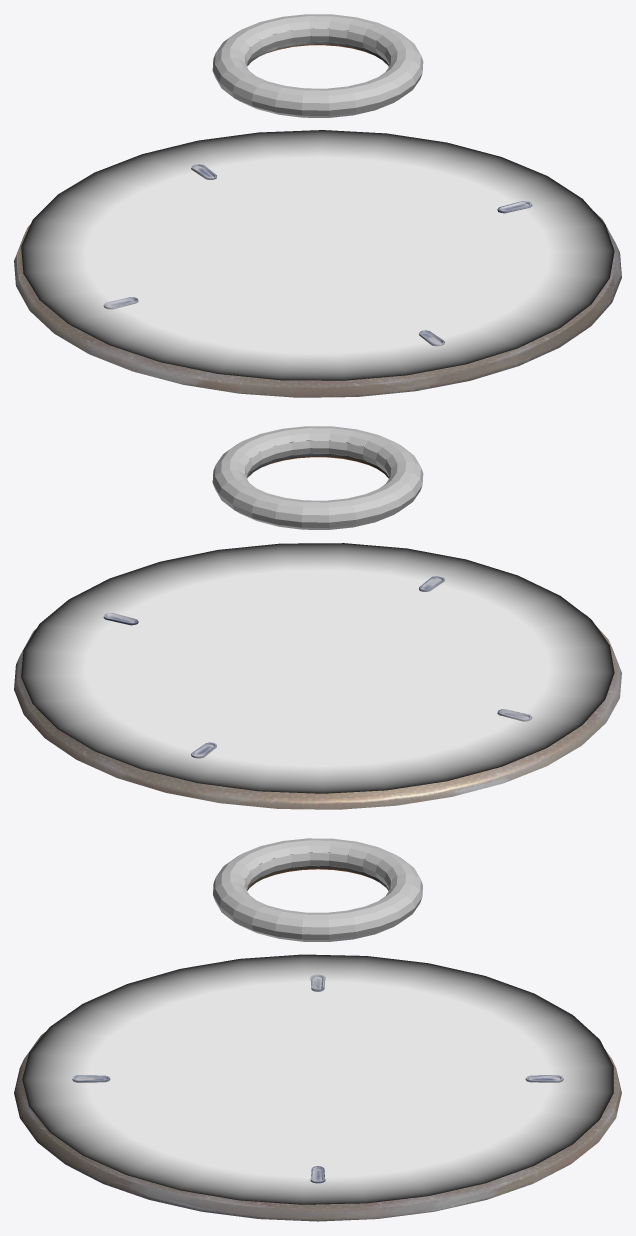
File: pref_TPC_v2_NeutralScoreArea03_winter_orange_frozen_15s_lv1.fbx
3 renders of one model, top to bottom at view 1: azimuth 30°, elevation 25°; view 2: azimuth 150°, elevation 25°; view 3: azimuth 270°, elevation 25°, orthographic.
Parts seen in each view (by area): view 1: dm_ice_1, sm_prop_platform06a_lv1, ring, sm_prop_platform06b_lv1; view 2: dm_ice_1, sm_prop_platform06a_lv1, ring, sm_prop_platform06b_lv1; view 3: dm_ice_1, sm_prop_platform06a_lv1, ring, sm_prop_platform06b_lv1.
Boxes of the visible parts, x1,y1,x2,y2 form: dm_ice_1: (21,130,614,380); sm_prop_platform06a_lv1: (14,164,621,397); ring: (212,14,423,117); sm_prop_platform06b_lv1: (244,28,391,65); dm_ice_1: (21,543,614,793); sm_prop_platform06a_lv1: (14,576,621,809); ring: (212,426,423,529); sm_prop_platform06b_lv1: (244,440,391,484); dm_ice_1: (22,954,613,1204); sm_prop_platform06a_lv1: (14,974,621,1221); ring: (213,838,422,941); sm_prop_platform06b_lv1: (244,852,391,896).
Bounding box in the file's own units: 7.46 × 2.92 × 7.46.
